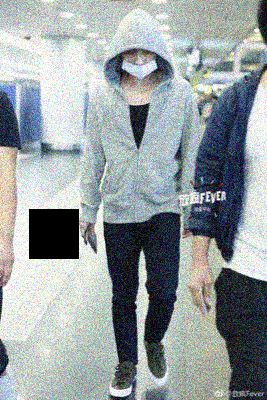mask_weared_incorrect: (121, 47, 158, 80)
